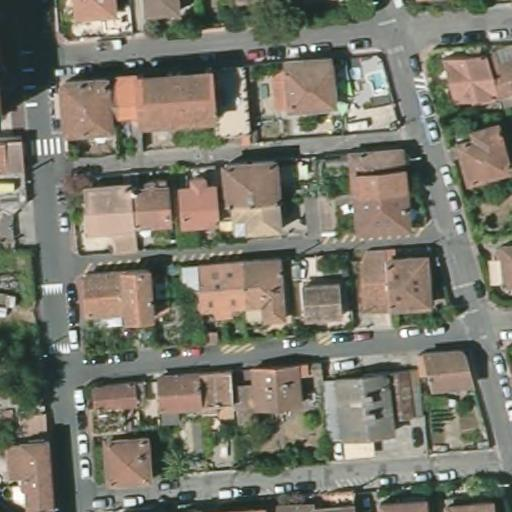pool: (365, 68, 389, 95)
